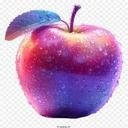apple: (14, 22, 123, 118)
